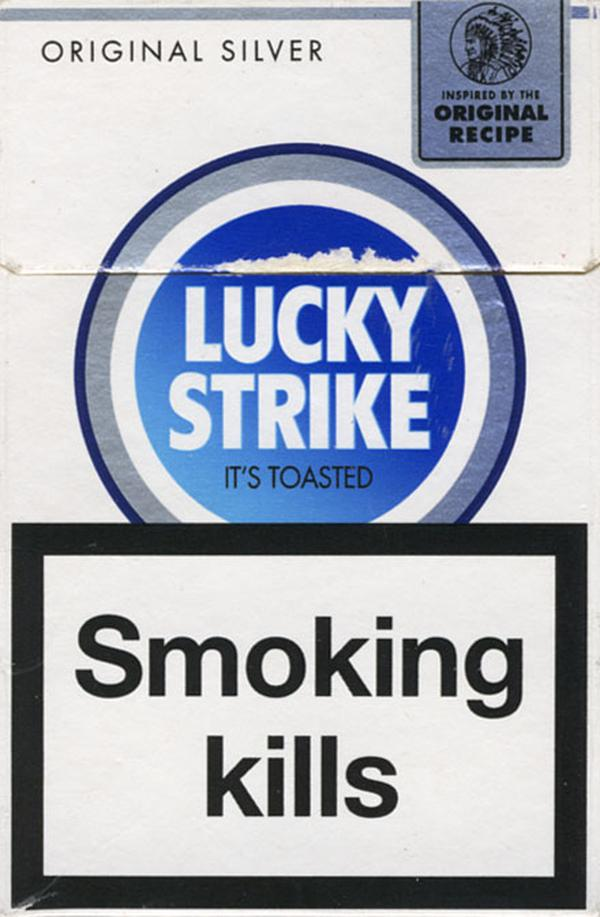lucky_strike_blue: (1, 4, 593, 913)
